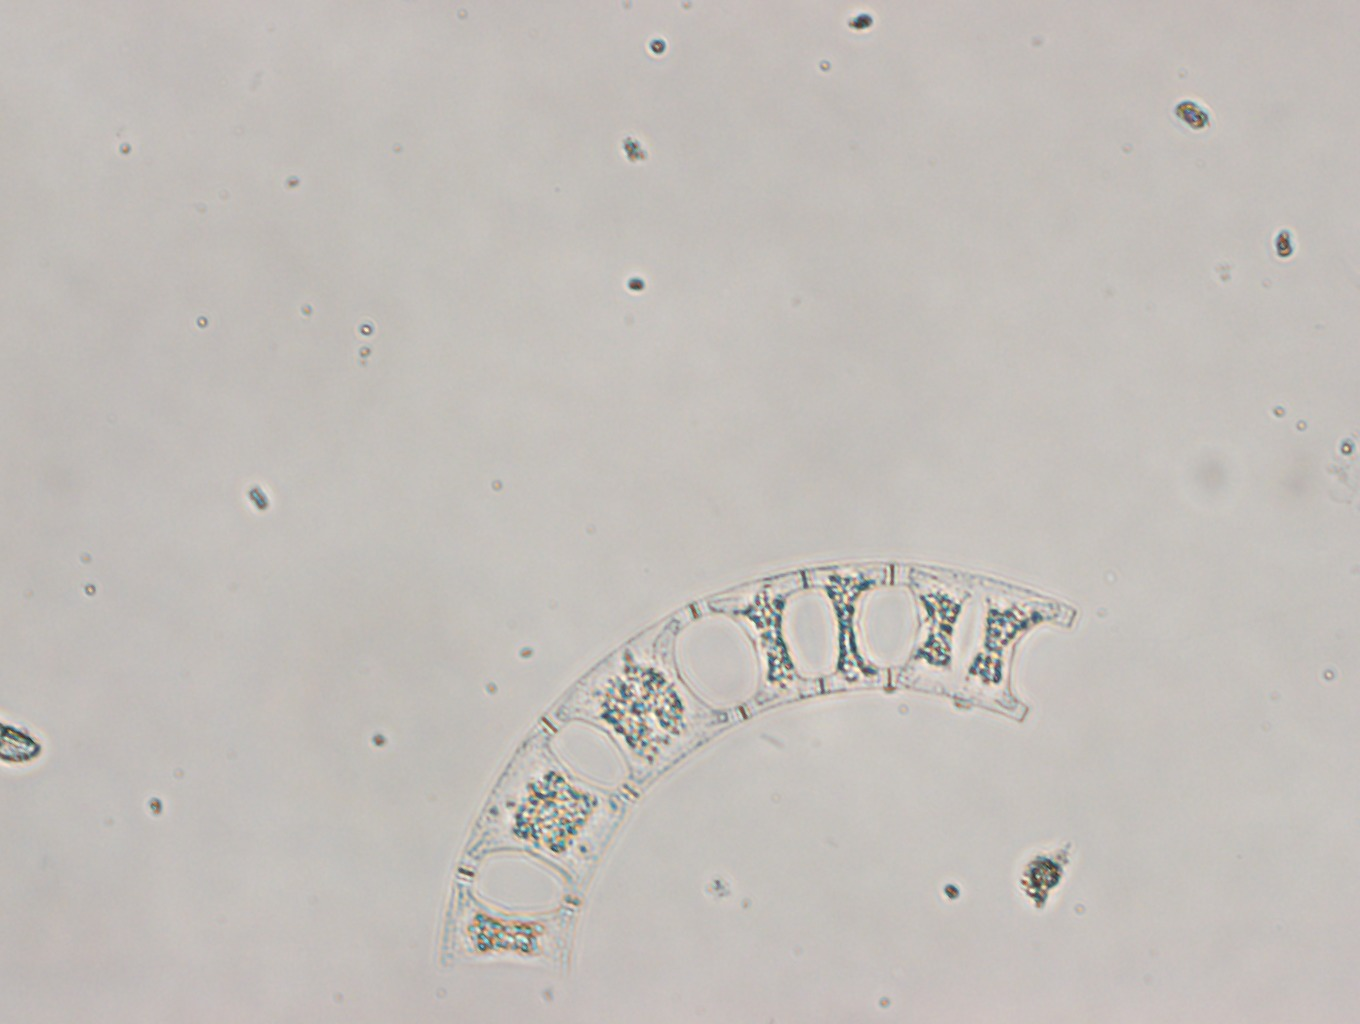eucampia: (432, 561, 1077, 975)
